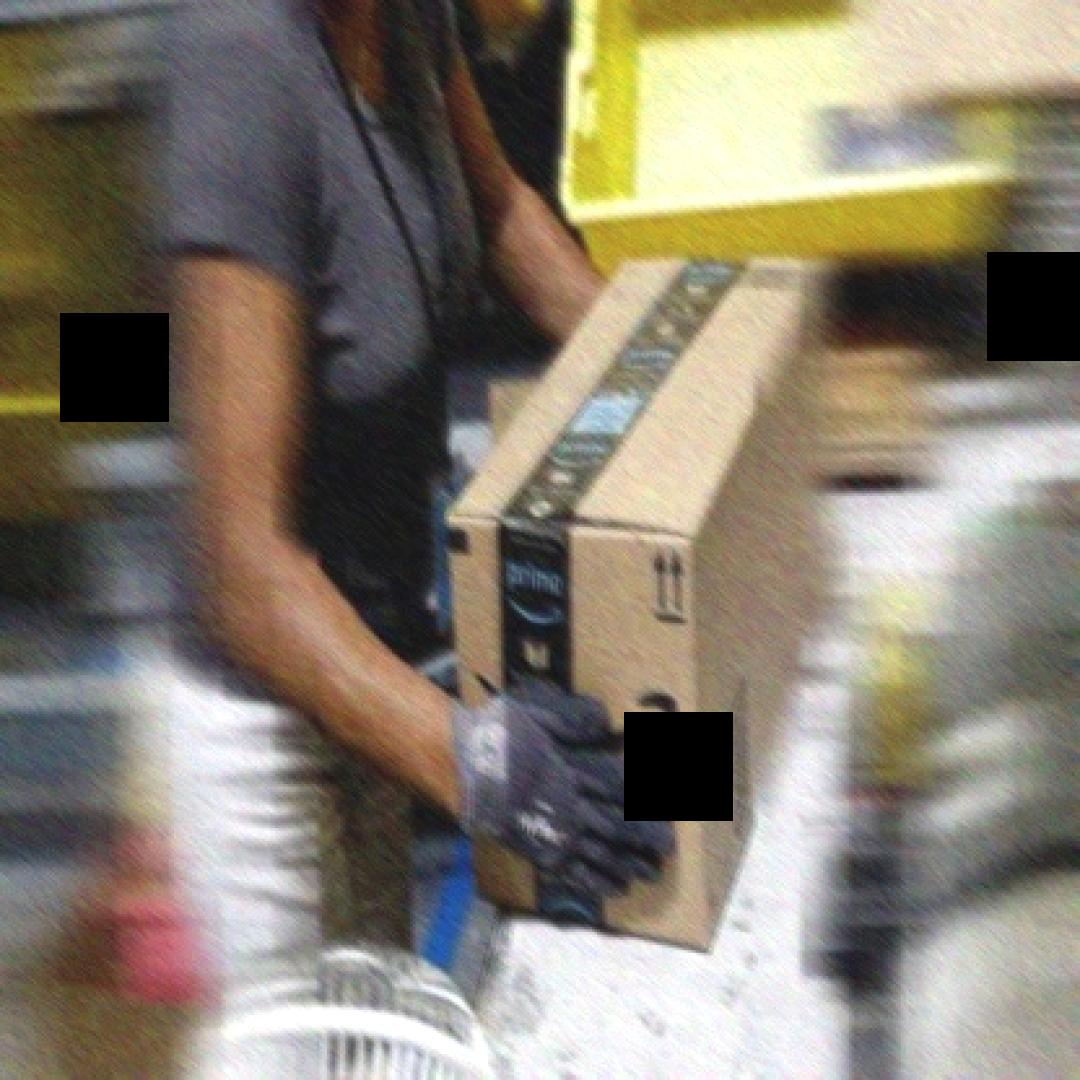package: (441, 252, 838, 966)
